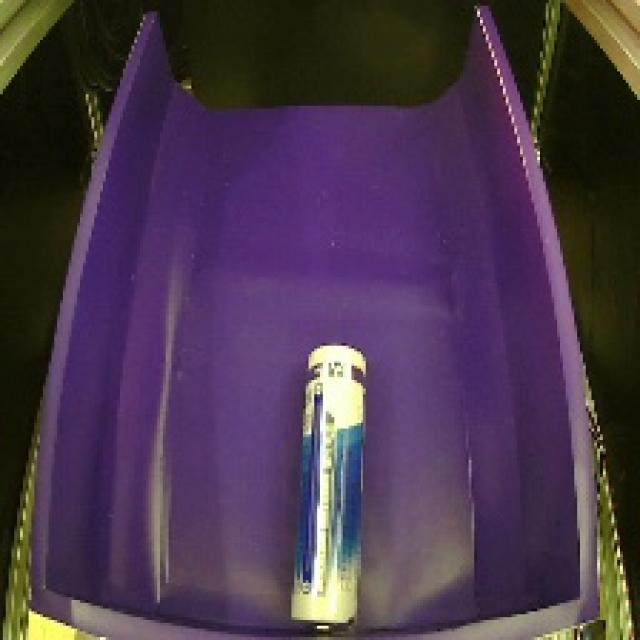battery: (275, 332, 373, 640)
